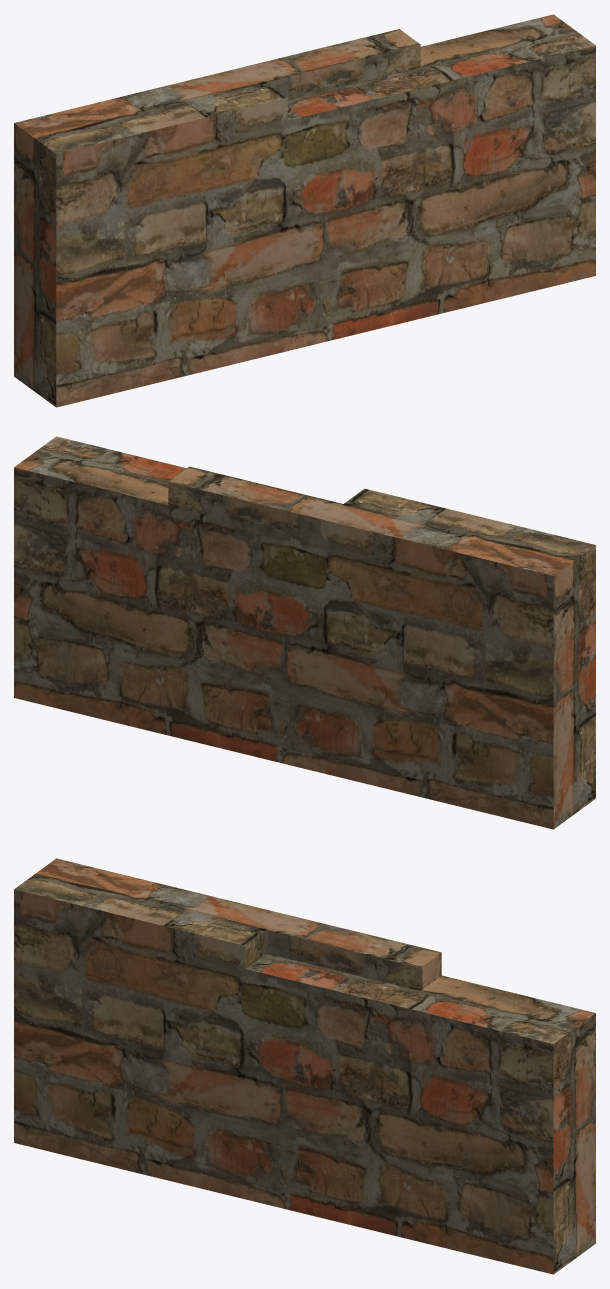
Rendered from brick_wall_low.dae.
The picture shows the model from 3 angles, top to bottom: view 1: azimuth 30°, elevation 25°; view 2: azimuth 150°, elevation 25°; view 3: azimuth 330°, elevation 25°; orthographic projection.
Visible parts, largest first — view 1: Shape_IndexedFaceSet; view 2: Shape_IndexedFaceSet; view 3: Shape_IndexedFaceSet.
Boxes of the visible parts, x1=… form: Shape_IndexedFaceSet: x1=14, y1=14, x2=595, y2=407; Shape_IndexedFaceSet: x1=14, y1=436, x2=595, y2=829; Shape_IndexedFaceSet: x1=14, y1=858, x2=595, y2=1274.
Size of the model in its own units: 1.47 by 0.2 by 0.66.
1 material, 1 textured.
